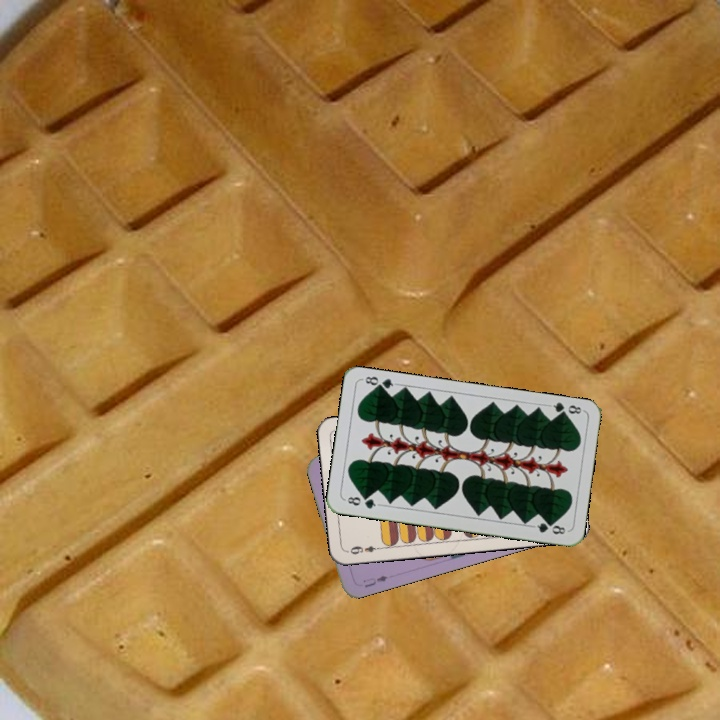E9: (344, 542, 385, 557)
EU: (359, 571, 390, 590)
G8: (545, 398, 585, 420), (341, 492, 382, 511)
